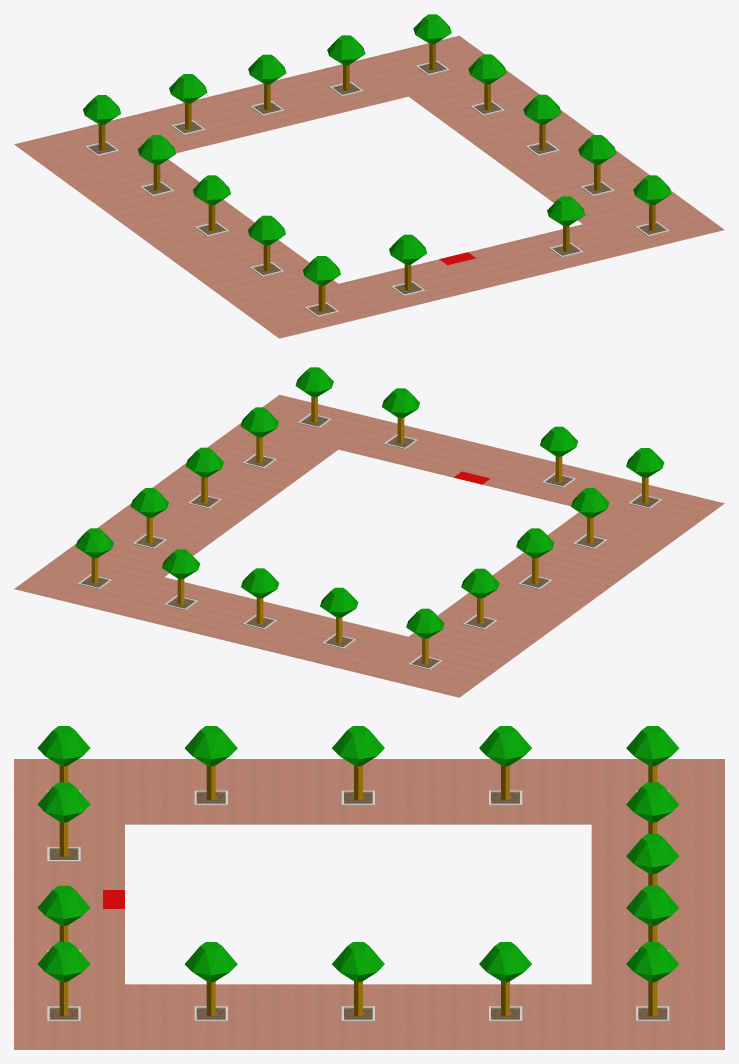
Rendered from outer.glb.
3 views of the same model, one above another, from view 1: azimuth 30°, elevation 25°; view 2: azimuth 150°, elevation 25°; view 3: azimuth 270°, elevation 25° (orthographic). The views are drawn at different scales.
Visible parts, largest first — view 1: Geom3D (×5); view 2: Geom3D (×5); view 3: Geom3D (×6).
Part boxes in pixels (x1,y1,x2,y2): Geom3D (×5): [14, 14, 724, 338]; Geom3D (×5): [14, 367, 724, 697]; Geom3D (×6): [14, 726, 724, 1049].
Size of the model in its own units: 31 by 3.41 by 32.
7 materials, 2 textured.
